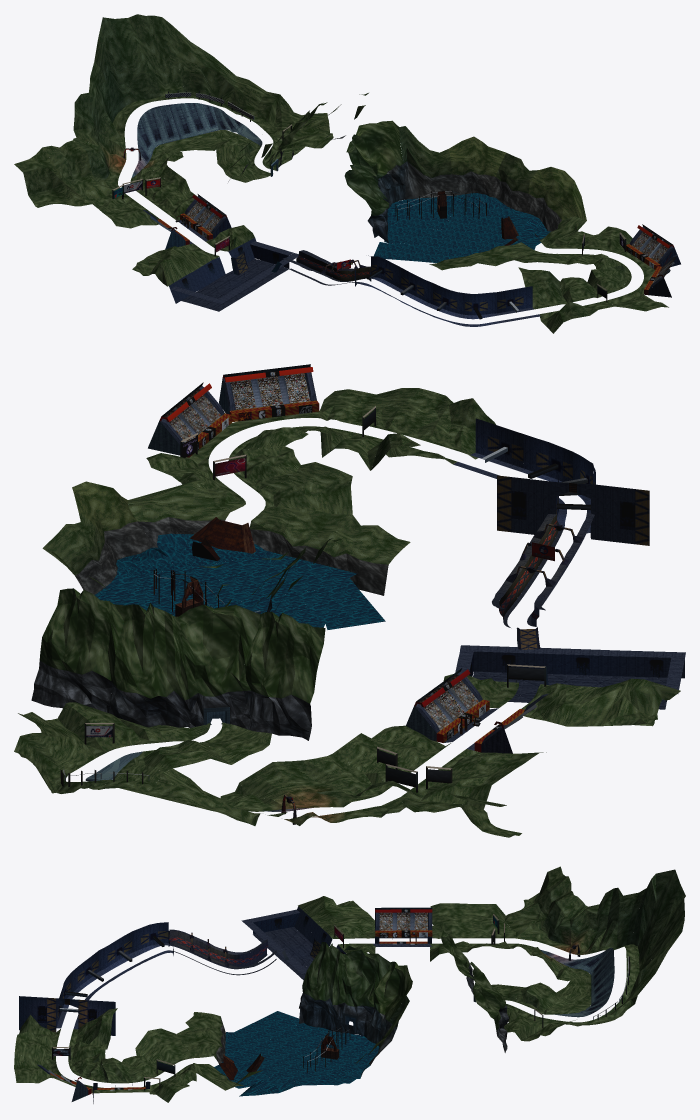
File: Track_06_scene.glb
3 views of the same model, one above another, from view 1: azimuth 30°, elevation 25°; view 2: azimuth 150°, elevation 25°; view 3: azimuth 270°, elevation 25° (orthographic). The views are drawn at different scales.
Visible parts, largest first — view 1: Mesh_0; view 2: Mesh_0; view 3: Mesh_0.
Boxes of the visible parts, bbox=[...] form: Mesh_0: bbox=[14, 14, 680, 333]; Mesh_0: bbox=[14, 364, 685, 837]; Mesh_0: bbox=[14, 866, 685, 1103].
Size of the model in its own units: 1689 by 448 by 2312.
38 materials, 37 textured.
